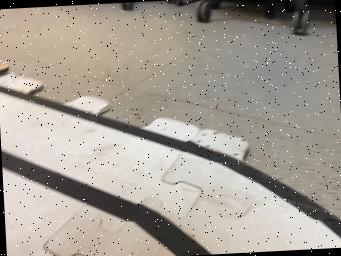street: (0, 83, 341, 256), (0, 83, 341, 256), (0, 83, 341, 256)
